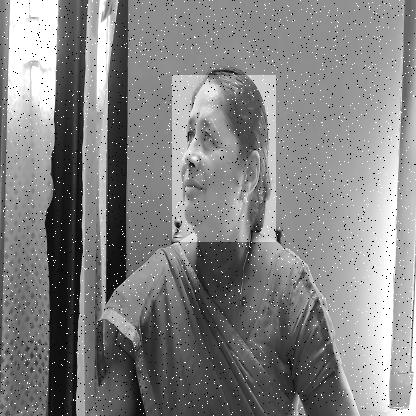Distracted: (172, 75, 276, 242)
